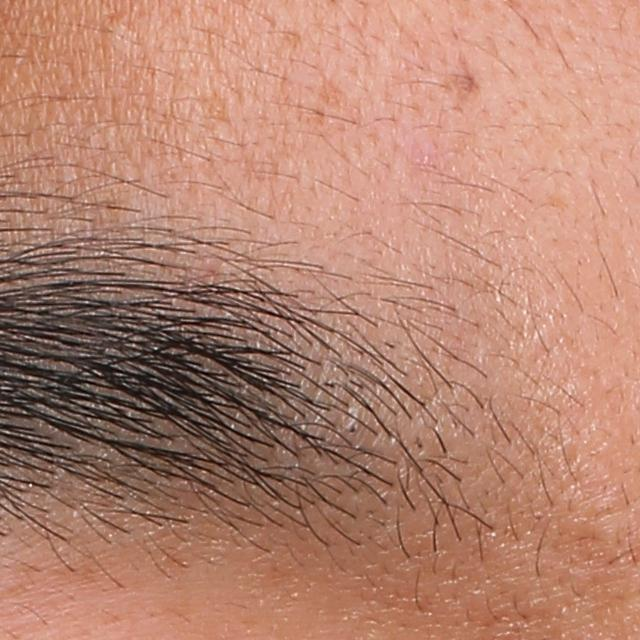melasma: (435, 57, 487, 117)
